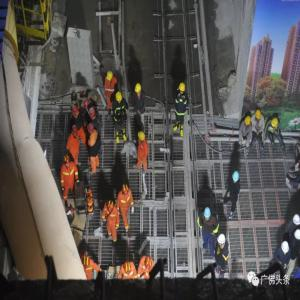blue: (231, 171, 241, 185), (204, 207, 212, 223)
red: (81, 256, 92, 271), (145, 255, 154, 272), (122, 184, 131, 199), (124, 261, 133, 275), (107, 200, 115, 215), (64, 154, 72, 169), (72, 125, 80, 139), (73, 105, 81, 119), (89, 107, 97, 120), (88, 123, 95, 136), (84, 98, 90, 110)
white: (282, 240, 291, 257), (218, 234, 227, 248), (292, 214, 300, 228), (294, 229, 300, 245)
yellow: (271, 116, 280, 130), (106, 71, 115, 84), (178, 83, 187, 96), (135, 83, 143, 96), (139, 132, 147, 144), (117, 92, 124, 105), (246, 116, 253, 128), (256, 109, 262, 122)
